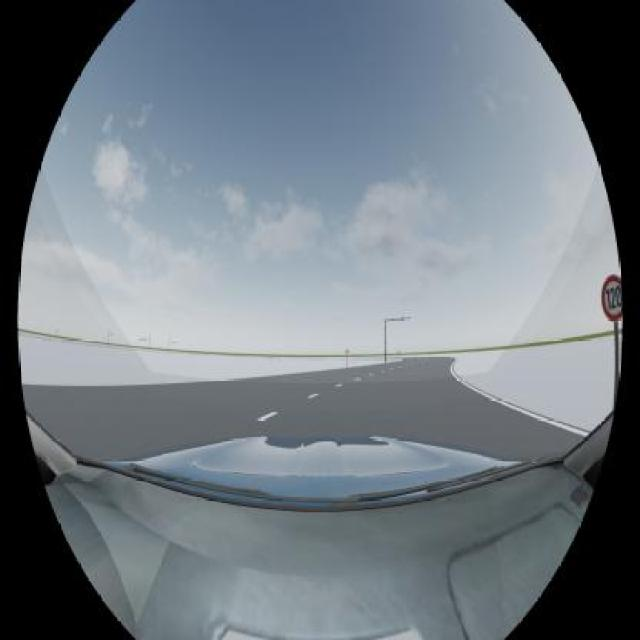forb_speed_over_120: (601, 275, 622, 321)
